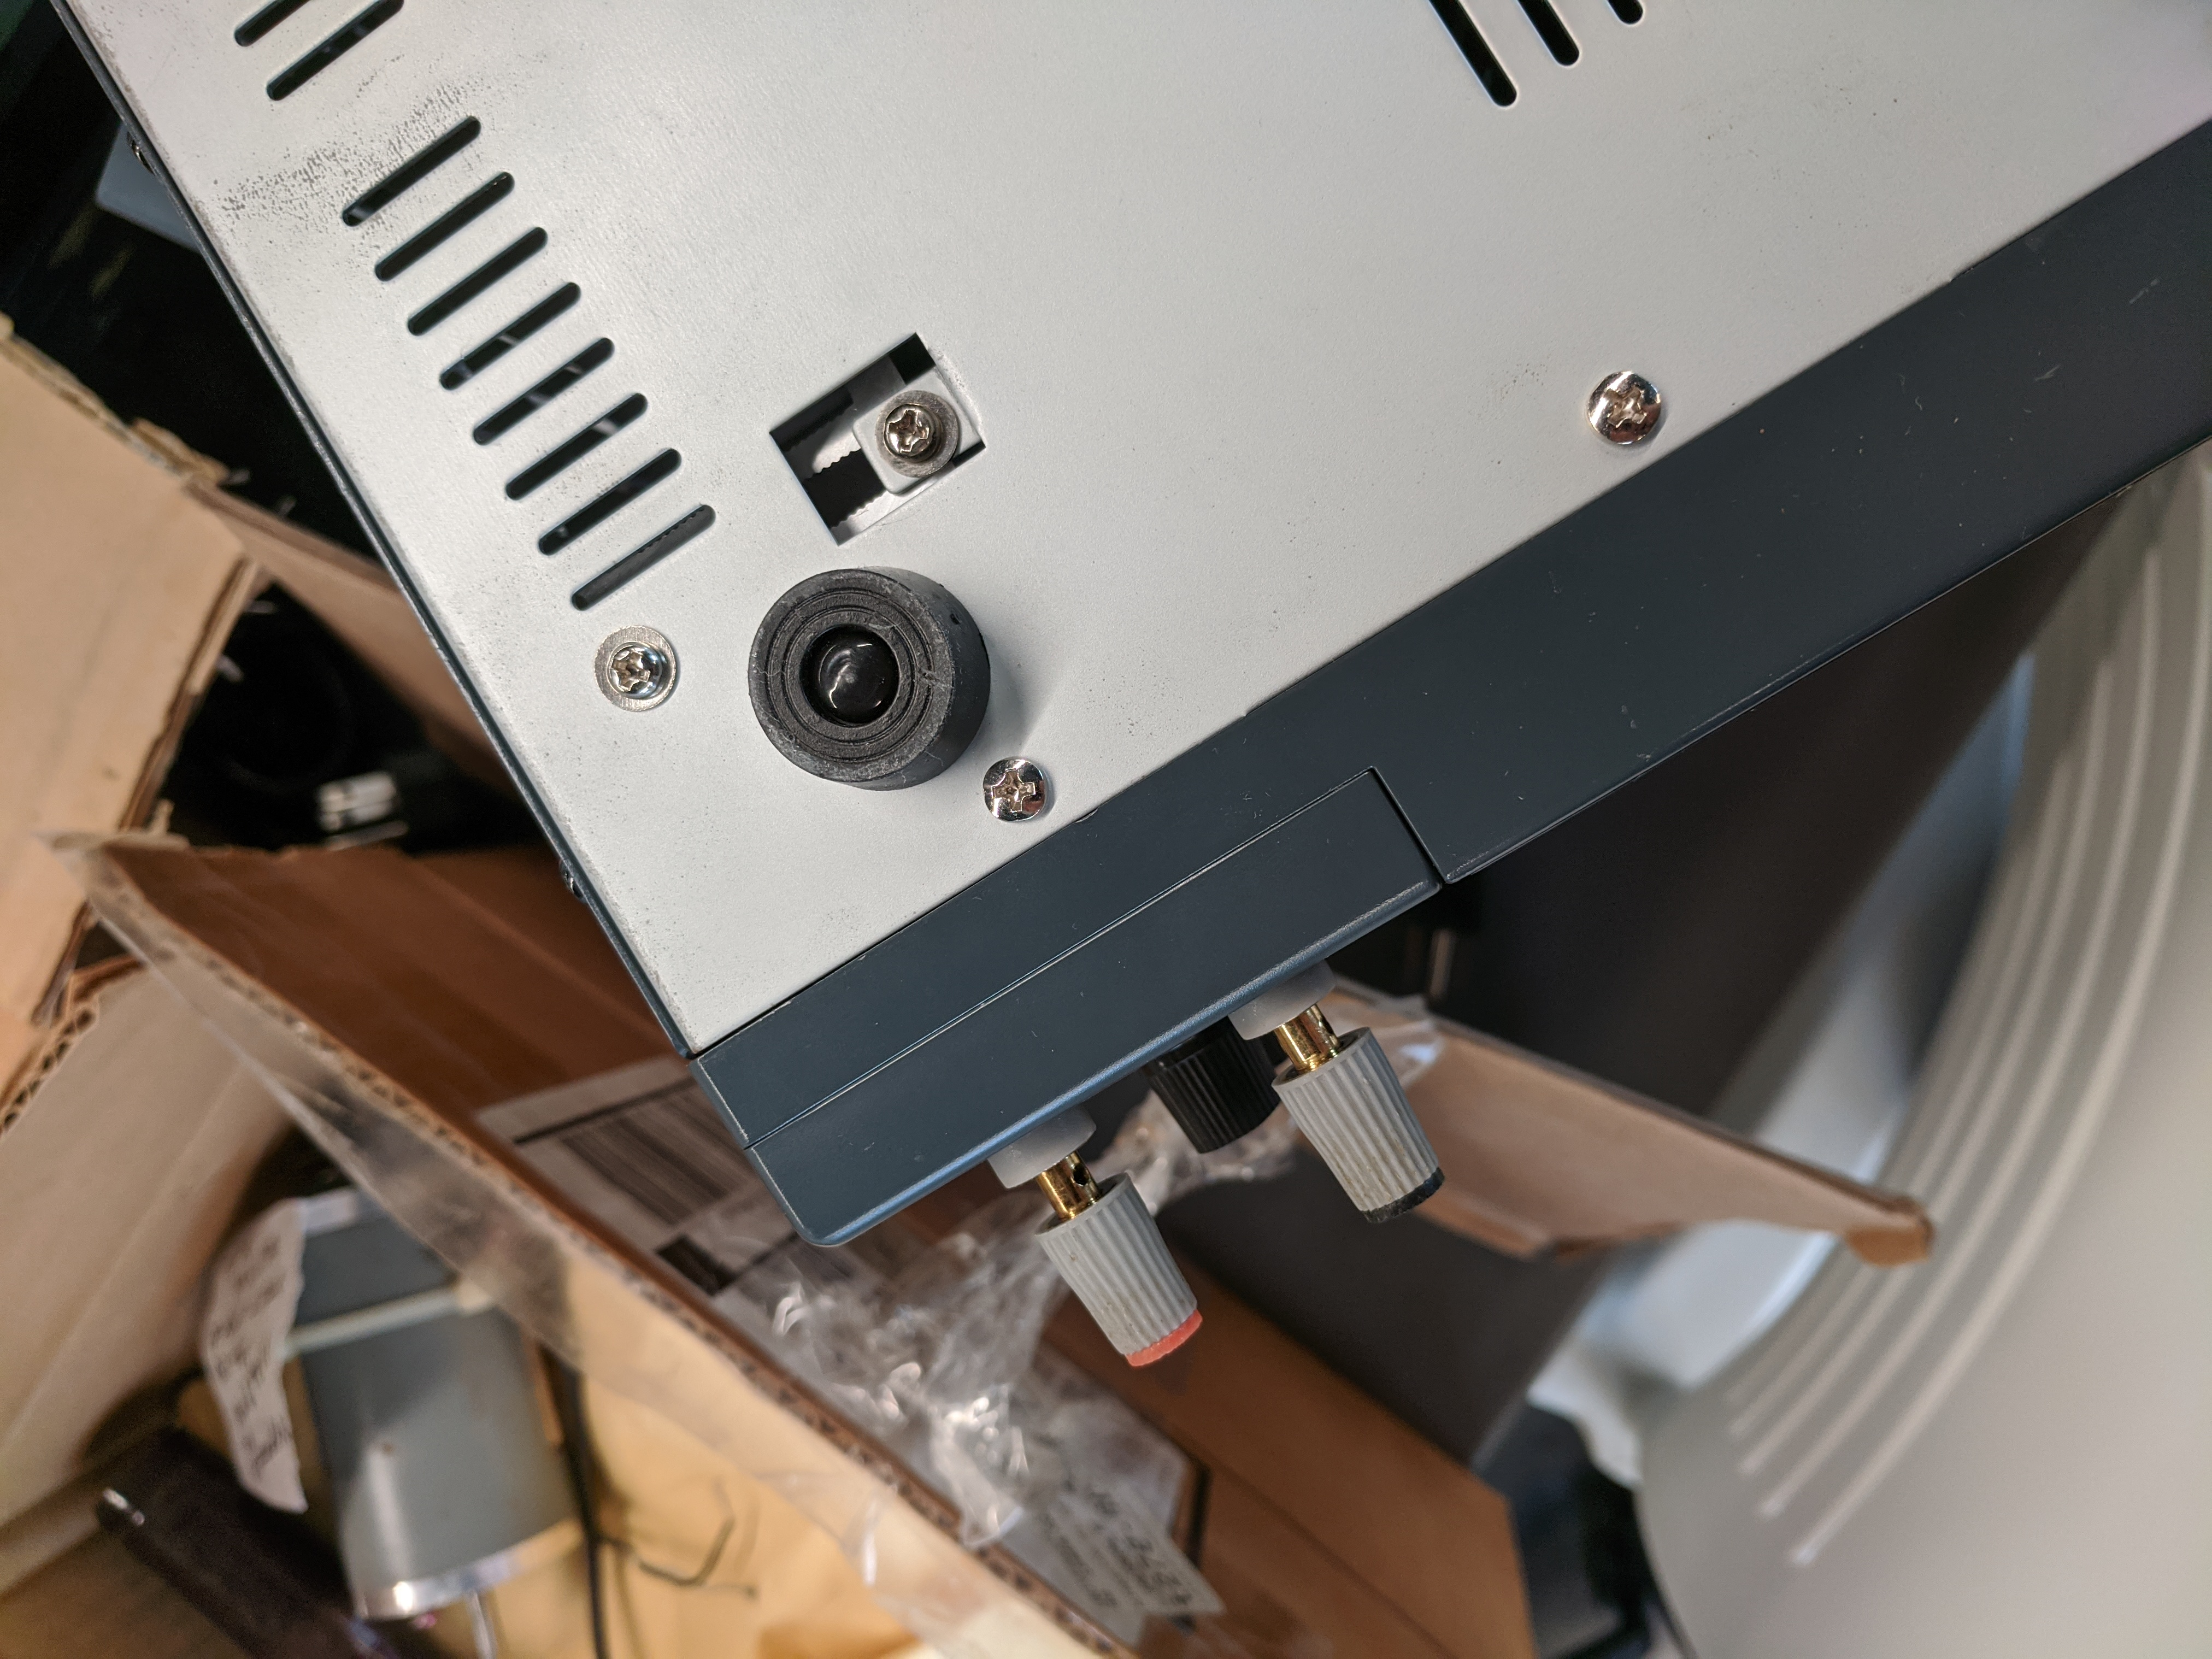cross_recessed_screw: (1583, 352, 1669, 441), (874, 383, 951, 464), (594, 624, 665, 702), (979, 748, 1050, 826)
